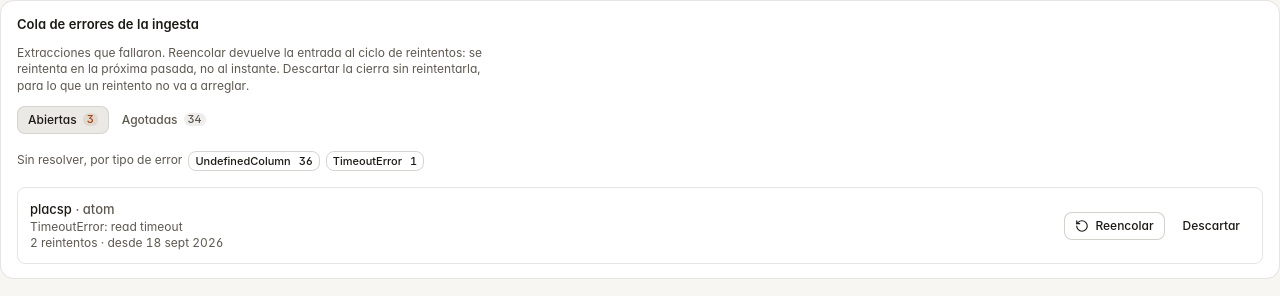
Test: DlqCard › mientras se confirma una acción no se ofrece la otra
Click the button with aria-label "Reencolar la entrada 7" at (1114, 226), box 1064,212 -> 1165,240
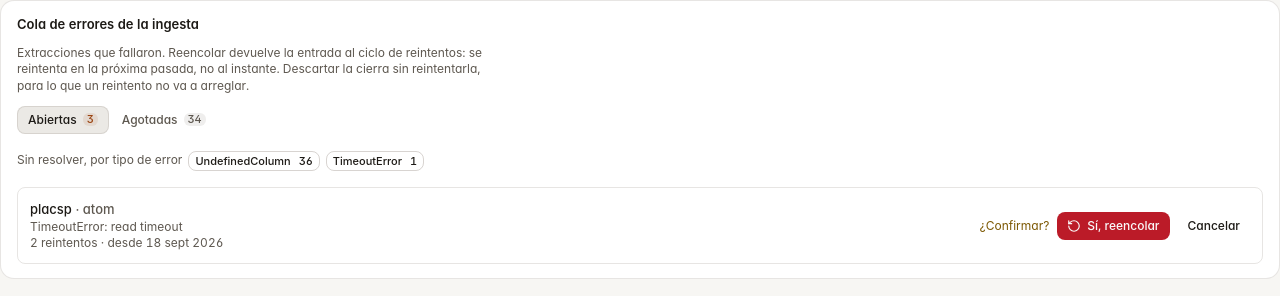
Expected: the button with aria-label "Confirmar reencolado de la entrada 7" is shown, 1057,212 -> 1170,240
Click the button "Cancelar" at (1214, 226), box 1178,212 -> 1250,240
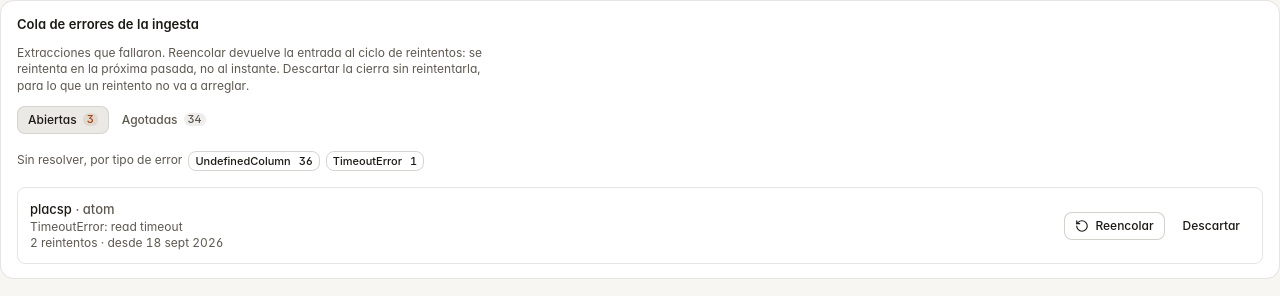
Expected: the button with aria-label "Reencolar la entrada 7" is shown, 1064,212 -> 1165,240
Expected: the button with aria-label "Descartar la entrada 7" is shown, 1173,212 -> 1250,240
